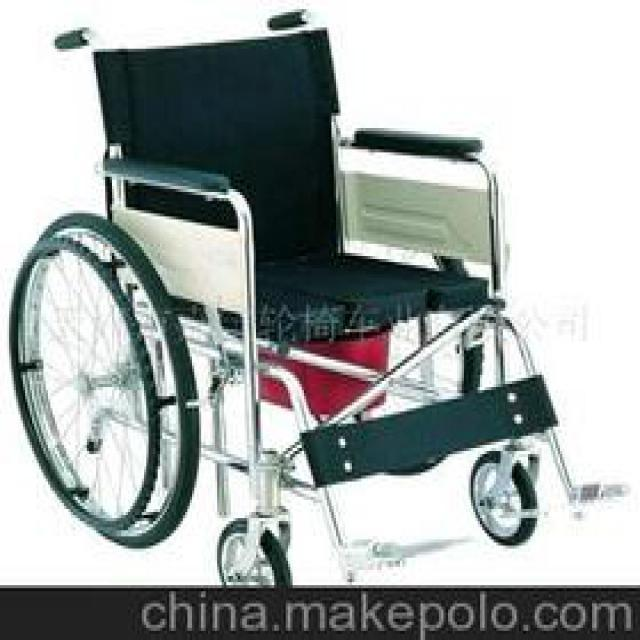wheelchair: (4, 3, 596, 585)
